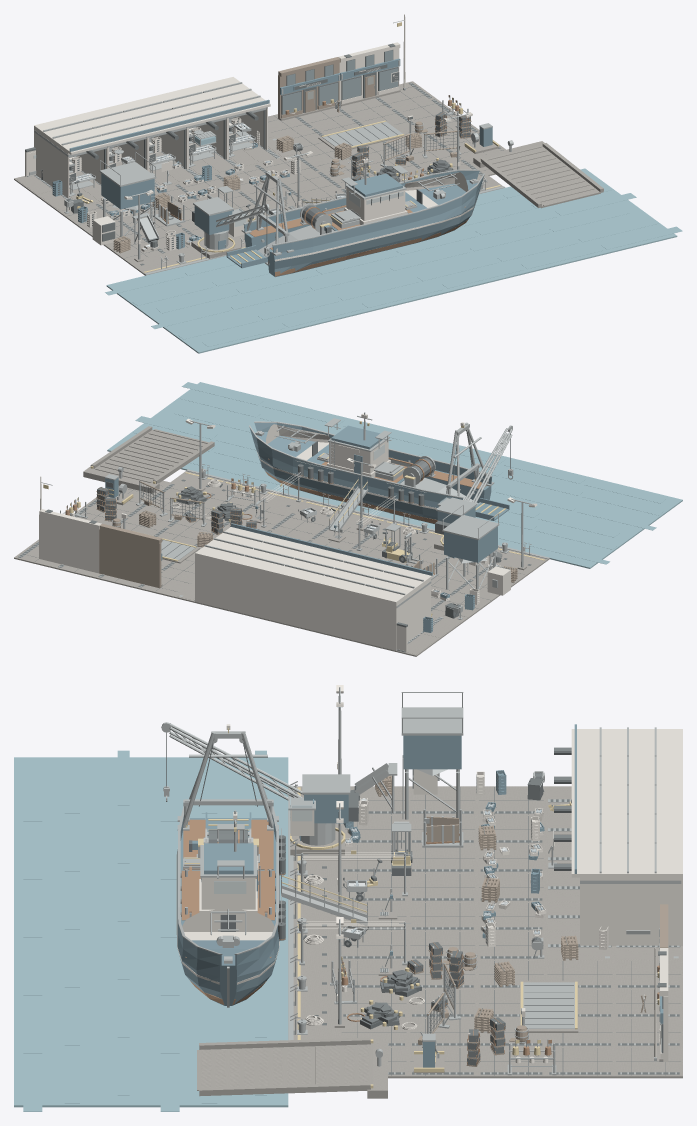
The model's file is fish-market-harbour-quay.glb.
3 views of the same model, one above another, from view 1: azimuth 30°, elevation 25°; view 2: azimuth 150°, elevation 25°; view 3: azimuth 270°, elevation 25° (orthographic). The views are drawn at different scales.
Parts seen in each view (by area): view 1: 000-fish-market-and-trawler-quay-harbour-water-module/0, 012-fish-market-and-trawler-quay-quay-edge-module/0, 071-fish-market-and-trawler-quay-market-hall-bay-open/0, 012-fish-market-and-trawler-quay-quay-edge-module/1, 071-fish-market-and-trawler-quay-market-hall-bay-open/3, 012-fish-market-and-trawler-quay-quay-edge-module/3, 076-fish-market-and-trawler-quay-chandlery-front/0, 076-fish-market-and-trawler-quay-chandlery-front/3, 076-fish-market-and-trawler-quay-chandlery-front/7, 012-fish-market-and-trawler-quay-quay-edge-module/2, 103-fish-market-and-trawler-quay-fish-box/3; view 2: 071-fish-market-and-trawler-quay-market-hall-bay-open/0, 000-fish-market-and-trawler-quay-harbour-water-module/0, 012-fish-market-and-trawler-quay-quay-edge-module/0, 012-fish-market-and-trawler-quay-quay-edge-module/1, 071-fish-market-and-trawler-quay-market-hall-bay-open/3, 012-fish-market-and-trawler-quay-quay-edge-module/3, 076-fish-market-and-trawler-quay-chandlery-front/0, 076-fish-market-and-trawler-quay-chandlery-front/7, 012-fish-market-and-trawler-quay-quay-edge-module/2; view 3: 012-fish-market-and-trawler-quay-quay-edge-module/0, 000-fish-market-and-trawler-quay-harbour-water-module/0, 071-fish-market-and-trawler-quay-market-hall-bay-open/0, 012-fish-market-and-trawler-quay-quay-edge-module/1, 012-fish-market-and-trawler-quay-quay-edge-module/3, 071-fish-market-and-trawler-quay-market-hall-bay-open/3, 076-fish-market-and-trawler-quay-chandlery-front/0, 076-fish-market-and-trawler-quay-chandlery-front/7, 012-fish-market-and-trawler-quay-quay-edge-module/2, 076-fish-market-and-trawler-quay-chandlery-front/3.
Boxes of the visible parts, x1,y1,x2,y2 form: 000-fish-market-and-trawler-quay-harbour-water-module/0: (105, 136, 682, 353); 012-fish-market-and-trawler-quay-quay-edge-module/0: (14, 81, 603, 275); 071-fish-market-and-trawler-quay-market-hall-bay-open/0: (25, 14, 477, 261); 012-fish-market-and-trawler-quay-quay-edge-module/1: (27, 20, 513, 275); 071-fish-market-and-trawler-quay-market-hall-bay-open/3: (52, 58, 492, 276); 012-fish-market-and-trawler-quay-quay-edge-module/3: (25, 43, 503, 265); 076-fish-market-and-trawler-quay-chandlery-front/0: (113, 57, 471, 253); 076-fish-market-and-trawler-quay-chandlery-front/3: (33, 50, 447, 226); 076-fish-market-and-trawler-quay-chandlery-front/7: (160, 95, 470, 276); 012-fish-market-and-trawler-quay-quay-edge-module/2: (76, 22, 500, 272); 103-fish-market-and-trawler-quay-fish-box/3: (76, 123, 345, 242); 071-fish-market-and-trawler-quay-market-hall-bay-open/0: (39, 413, 537, 652); 000-fish-market-and-trawler-quay-harbour-water-module/0: (107, 382, 682, 568); 012-fish-market-and-trawler-quay-quay-edge-module/0: (14, 426, 549, 656); 012-fish-market-and-trawler-quay-quay-edge-module/1: (19, 412, 549, 652); 071-fish-market-and-trawler-quay-market-hall-bay-open/3: (105, 423, 509, 632); 012-fish-market-and-trawler-quay-quay-edge-module/3: (18, 431, 531, 643); 076-fish-market-and-trawler-quay-chandlery-front/0: (96, 481, 517, 588); 076-fish-market-and-trawler-quay-chandlery-front/7: (65, 457, 486, 574); 012-fish-market-and-trawler-quay-quay-edge-module/2: (43, 421, 544, 616); 012-fish-market-and-trawler-quay-quay-edge-module/0: (197, 786, 682, 1098); 000-fish-market-and-trawler-quay-harbour-water-module/0: (14, 750, 288, 1111); 071-fish-market-and-trawler-quay-market-hall-bay-open/0: (176, 685, 682, 1063); 012-fish-market-and-trawler-quay-quay-edge-module/1: (161, 687, 681, 1075); 012-fish-market-and-trawler-quay-quay-edge-module/3: (166, 732, 680, 1075); 071-fish-market-and-trawler-quay-market-hall-bay-open/3: (177, 724, 663, 1067); 076-fish-market-and-trawler-quay-chandlery-front/0: (375, 775, 668, 1066); 076-fish-market-and-trawler-quay-chandlery-front/7: (181, 819, 659, 1065); 012-fish-market-and-trawler-quay-quay-edge-module/2: (184, 728, 659, 1088); 076-fish-market-and-trawler-quay-chandlery-front/3: (201, 693, 662, 1051).
Size of the model in its own units: 49.8 by 9.05 by 39.
Materials: 12 (1 with a texture image).
